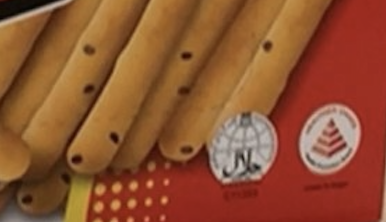halal: (218, 128, 263, 180)
